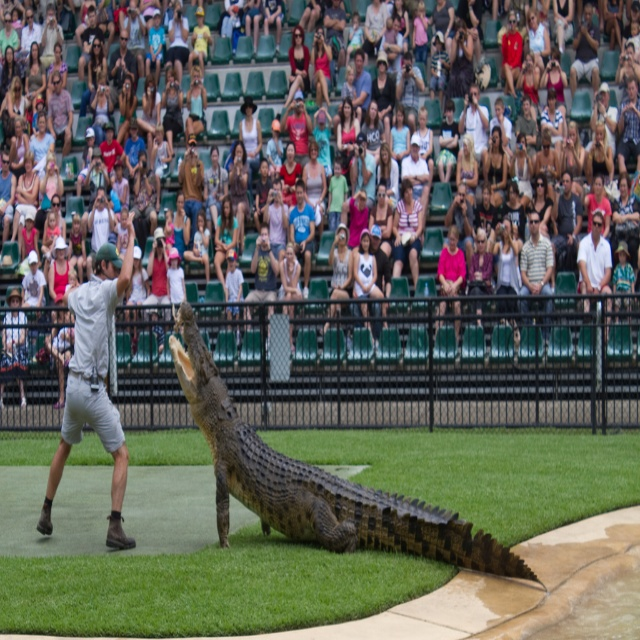Crocodile: (169, 301, 547, 590)
